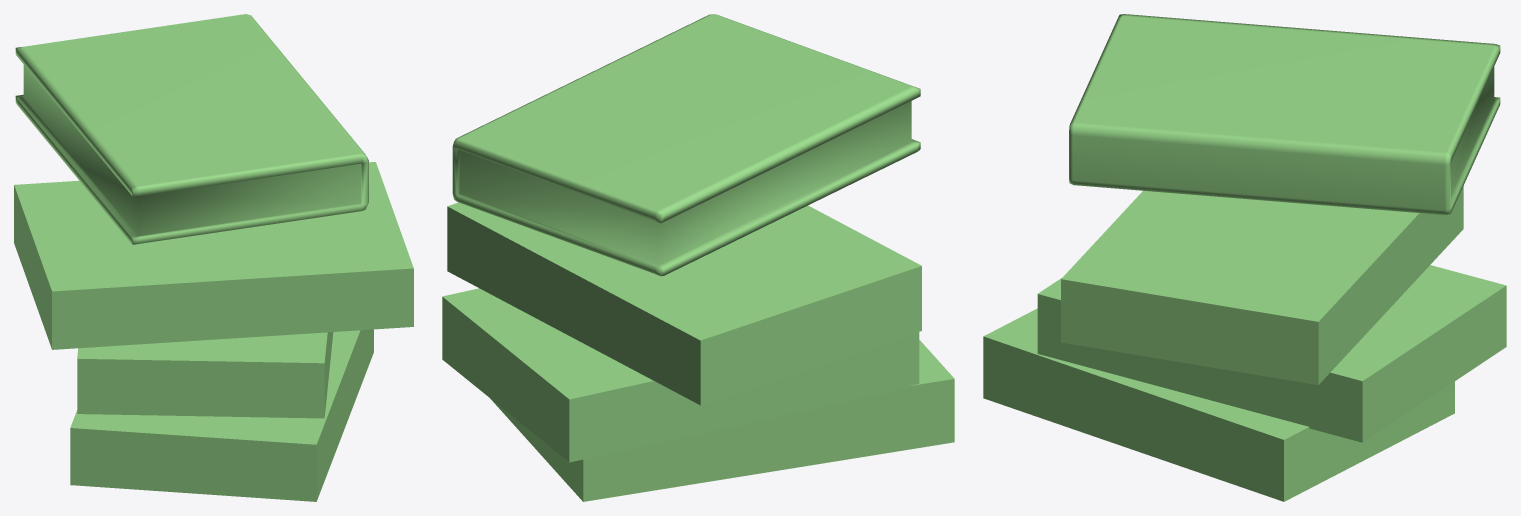
The model's file is Book_Pile_03B_Lod0.fbx.
The picture shows the model from 3 angles, left to right: view 1: azimuth 30°, elevation 25°; view 2: azimuth 150°, elevation 25°; view 3: azimuth 270°, elevation 25°; orthographic projection. The views are drawn at different scales.
Visible parts, largest first — view 1: Book_Pile_03B_Lod0; view 2: Book_Pile_03B_Lod0; view 3: Book_Pile_03B_Lod0.
Part boxes in pixels (x1,y1,x2,y2): Book_Pile_03B_Lod0: (14, 14, 413, 501); Book_Pile_03B_Lod0: (442, 14, 954, 501); Book_Pile_03B_Lod0: (983, 14, 1506, 501).
Size of the model in its own units: 31.09 by 23.13 by 34.07.
